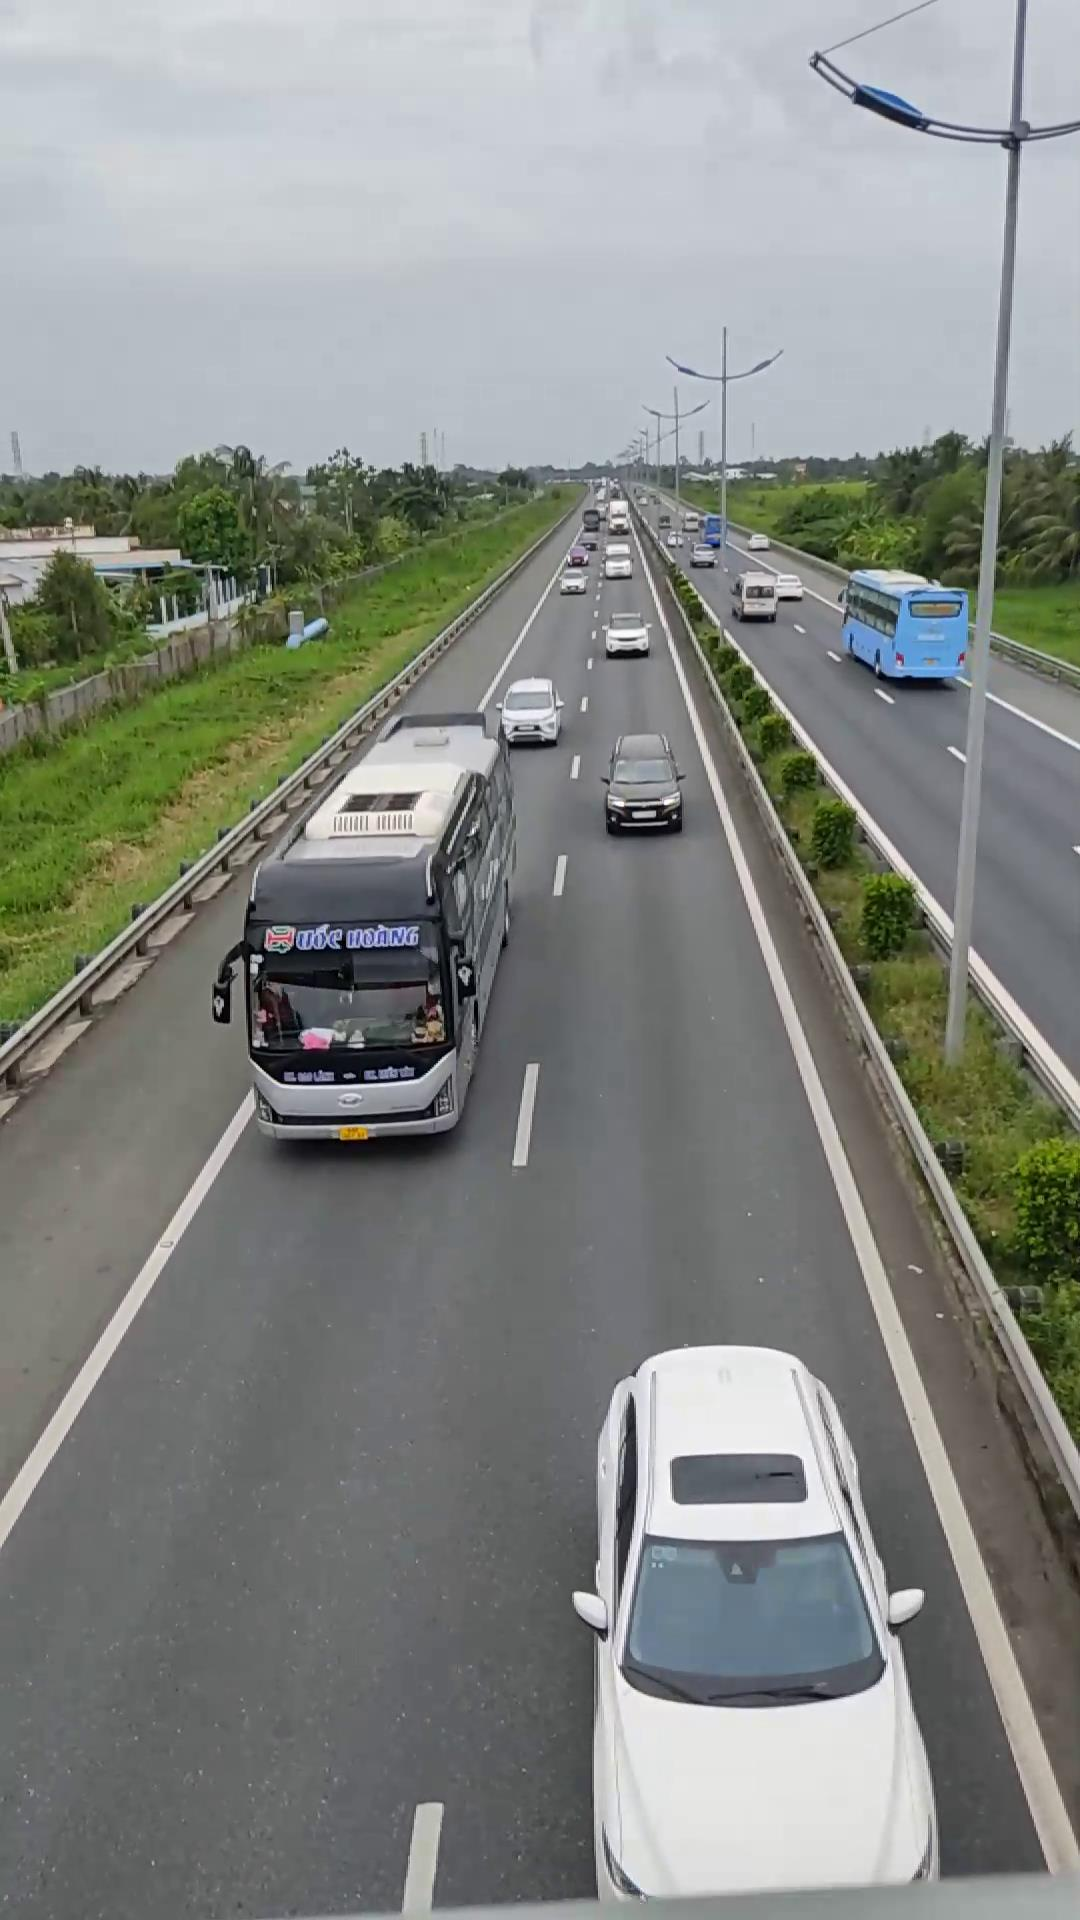bus: (224, 724, 520, 1145)
car: (572, 1346, 940, 1888), (599, 732, 686, 833), (488, 675, 564, 745)
